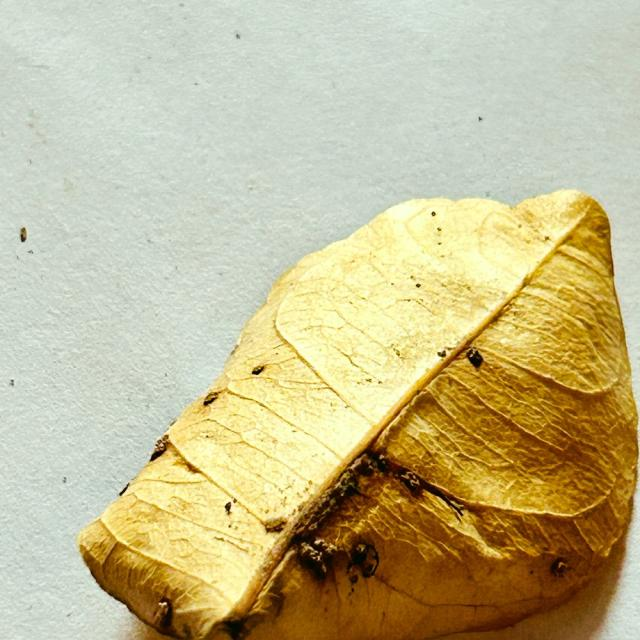DryLeaf_Lemon: (77, 190, 637, 639)
